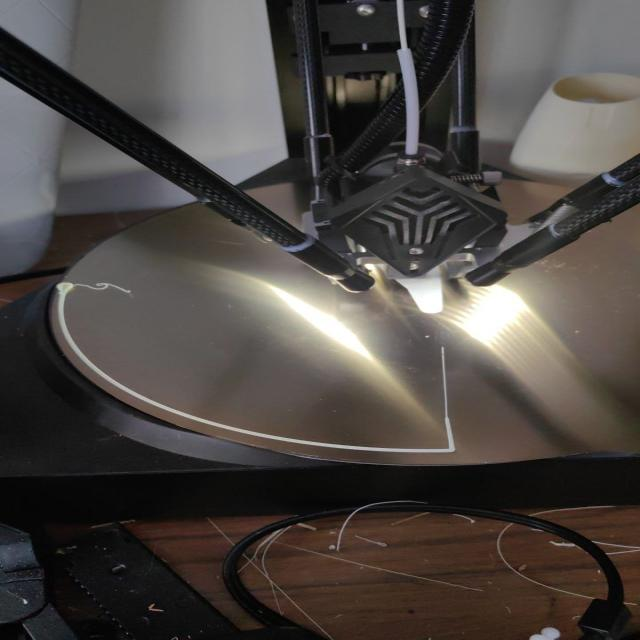Without deffect: (37, 123, 640, 544)
